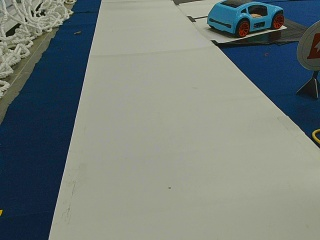battery: (297, 18, 319, 72)
car: (207, 2, 286, 37)
